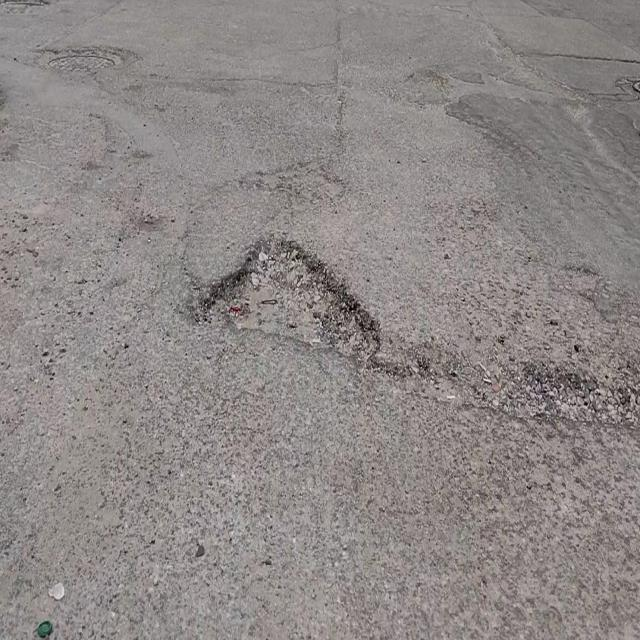Potholes: (191, 231, 387, 368)
